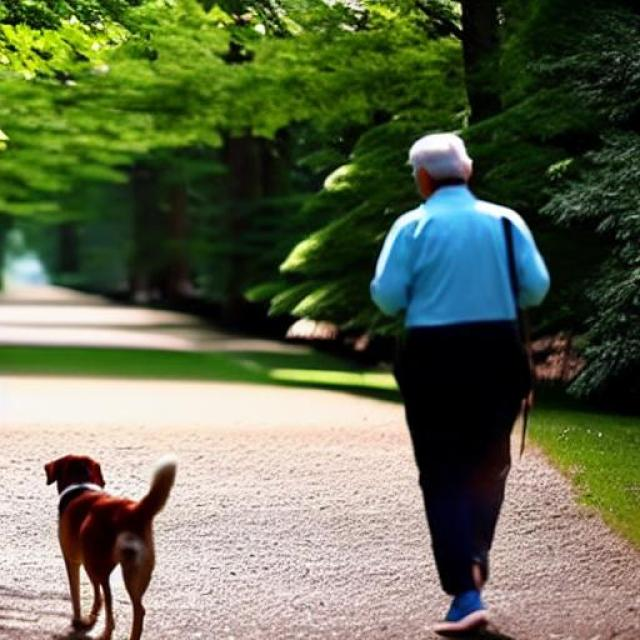Unleashed_Dog: (42, 329, 518, 639)
